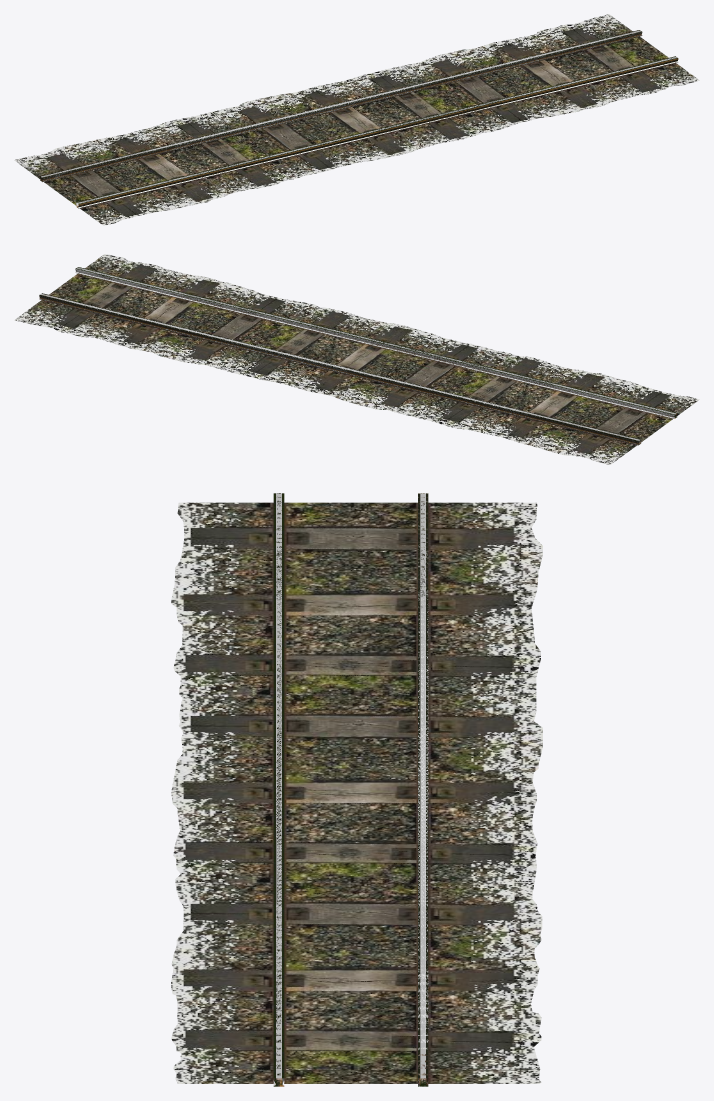
3 renders of one model, top to bottom at view 1: azimuth 30°, elevation 25°; view 2: azimuth 150°, elevation 25°; view 3: azimuth 270°, elevation 25°, orthographic. The views are drawn at different scales.
Visible parts, largest first — view 1: group_2, group_1 (×9); view 2: group_2, group_1 (×8); view 3: group_2, group_1 (×6).
Boxes of the visible parts, left/top/right/bottom form: group_2: left=14, top=14, right=699, bottom=225; group_1 (×9): left=40, top=30, right=678, bottom=208; group_2: left=14, top=254, right=699, bottom=464; group_1 (×8): left=39, top=267, right=677, bottom=445; group_2: left=171, top=502, right=542, bottom=1083; group_1 (×6): left=273, top=493, right=428, bottom=1084.
Bounding box in the file's own units: 8249 × 2220 × 54.33.
